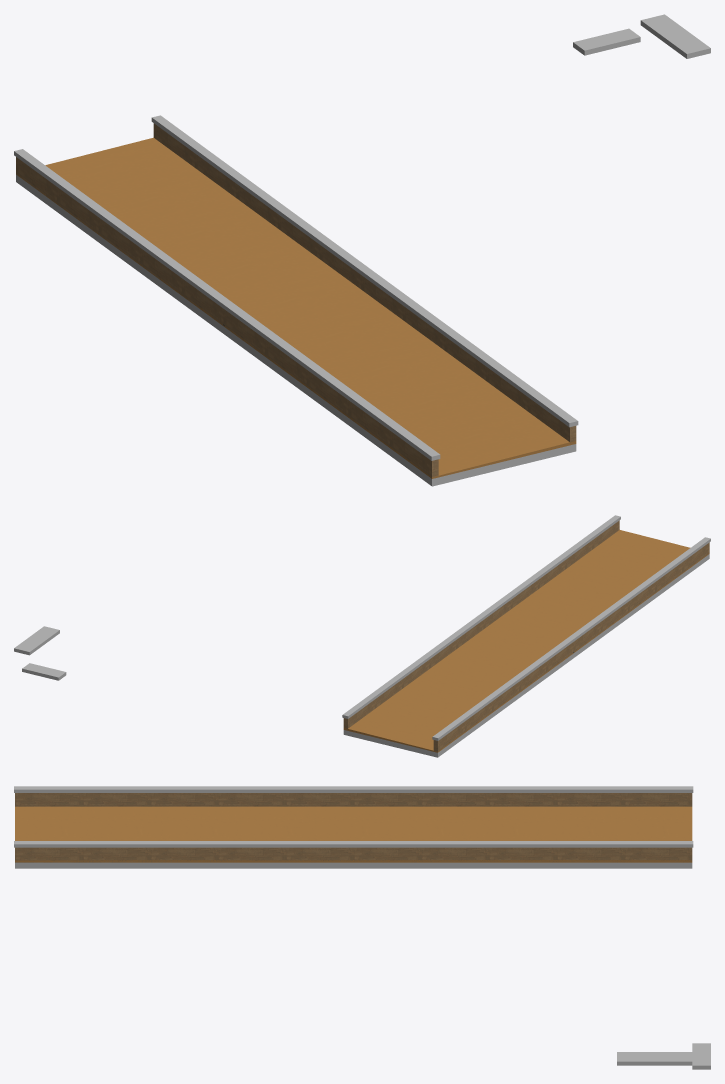
Rendered from roof-bundle-caravan-court.glb.
The picture shows the model from 3 angles, top to bottom: view 1: azimuth 30°, elevation 25°; view 2: azimuth 150°, elevation 25°; view 3: azimuth 270°, elevation 25°; orthographic projection. The views are drawn at different scales.
Parts seen in each view (by area): view 1: bz06_faded_ochre-receive, ph_bz04_stone_trim_sandstone-cast, bz06_service_stone-cast; view 2: bz06_faded_ochre-receive, ph_bz04_stone_trim_sandstone-cast, bz06_service_stone-cast; view 3: bz06_faded_ochre-receive, bz06_service_stone-cast, ph_bz04_stone_trim_sandstone-cast.
Part boxes in pixels (bbox=[...]): bz06_faded_ochre-receive: bbox=[16, 137, 576, 478]; ph_bz04_stone_trim_sandstone-cast: bbox=[14, 14, 710, 486]; bz06_service_stone-cast: bbox=[16, 123, 576, 478]; bz06_faded_ochre-receive: bbox=[343, 530, 709, 752]; ph_bz04_stone_trim_sandstone-cast: bbox=[14, 515, 710, 757]; bz06_service_stone-cast: bbox=[343, 520, 709, 751]; bz06_faded_ochre-receive: bbox=[15, 806, 692, 862]; bz06_service_stone-cast: bbox=[15, 793, 692, 862]; ph_bz04_stone_trim_sandstone-cast: bbox=[14, 786, 710, 1069].
Bounding box in the file's own units: 16.23 × 1.03 × 18.53.
Materials: 4 (3 with a texture image).
